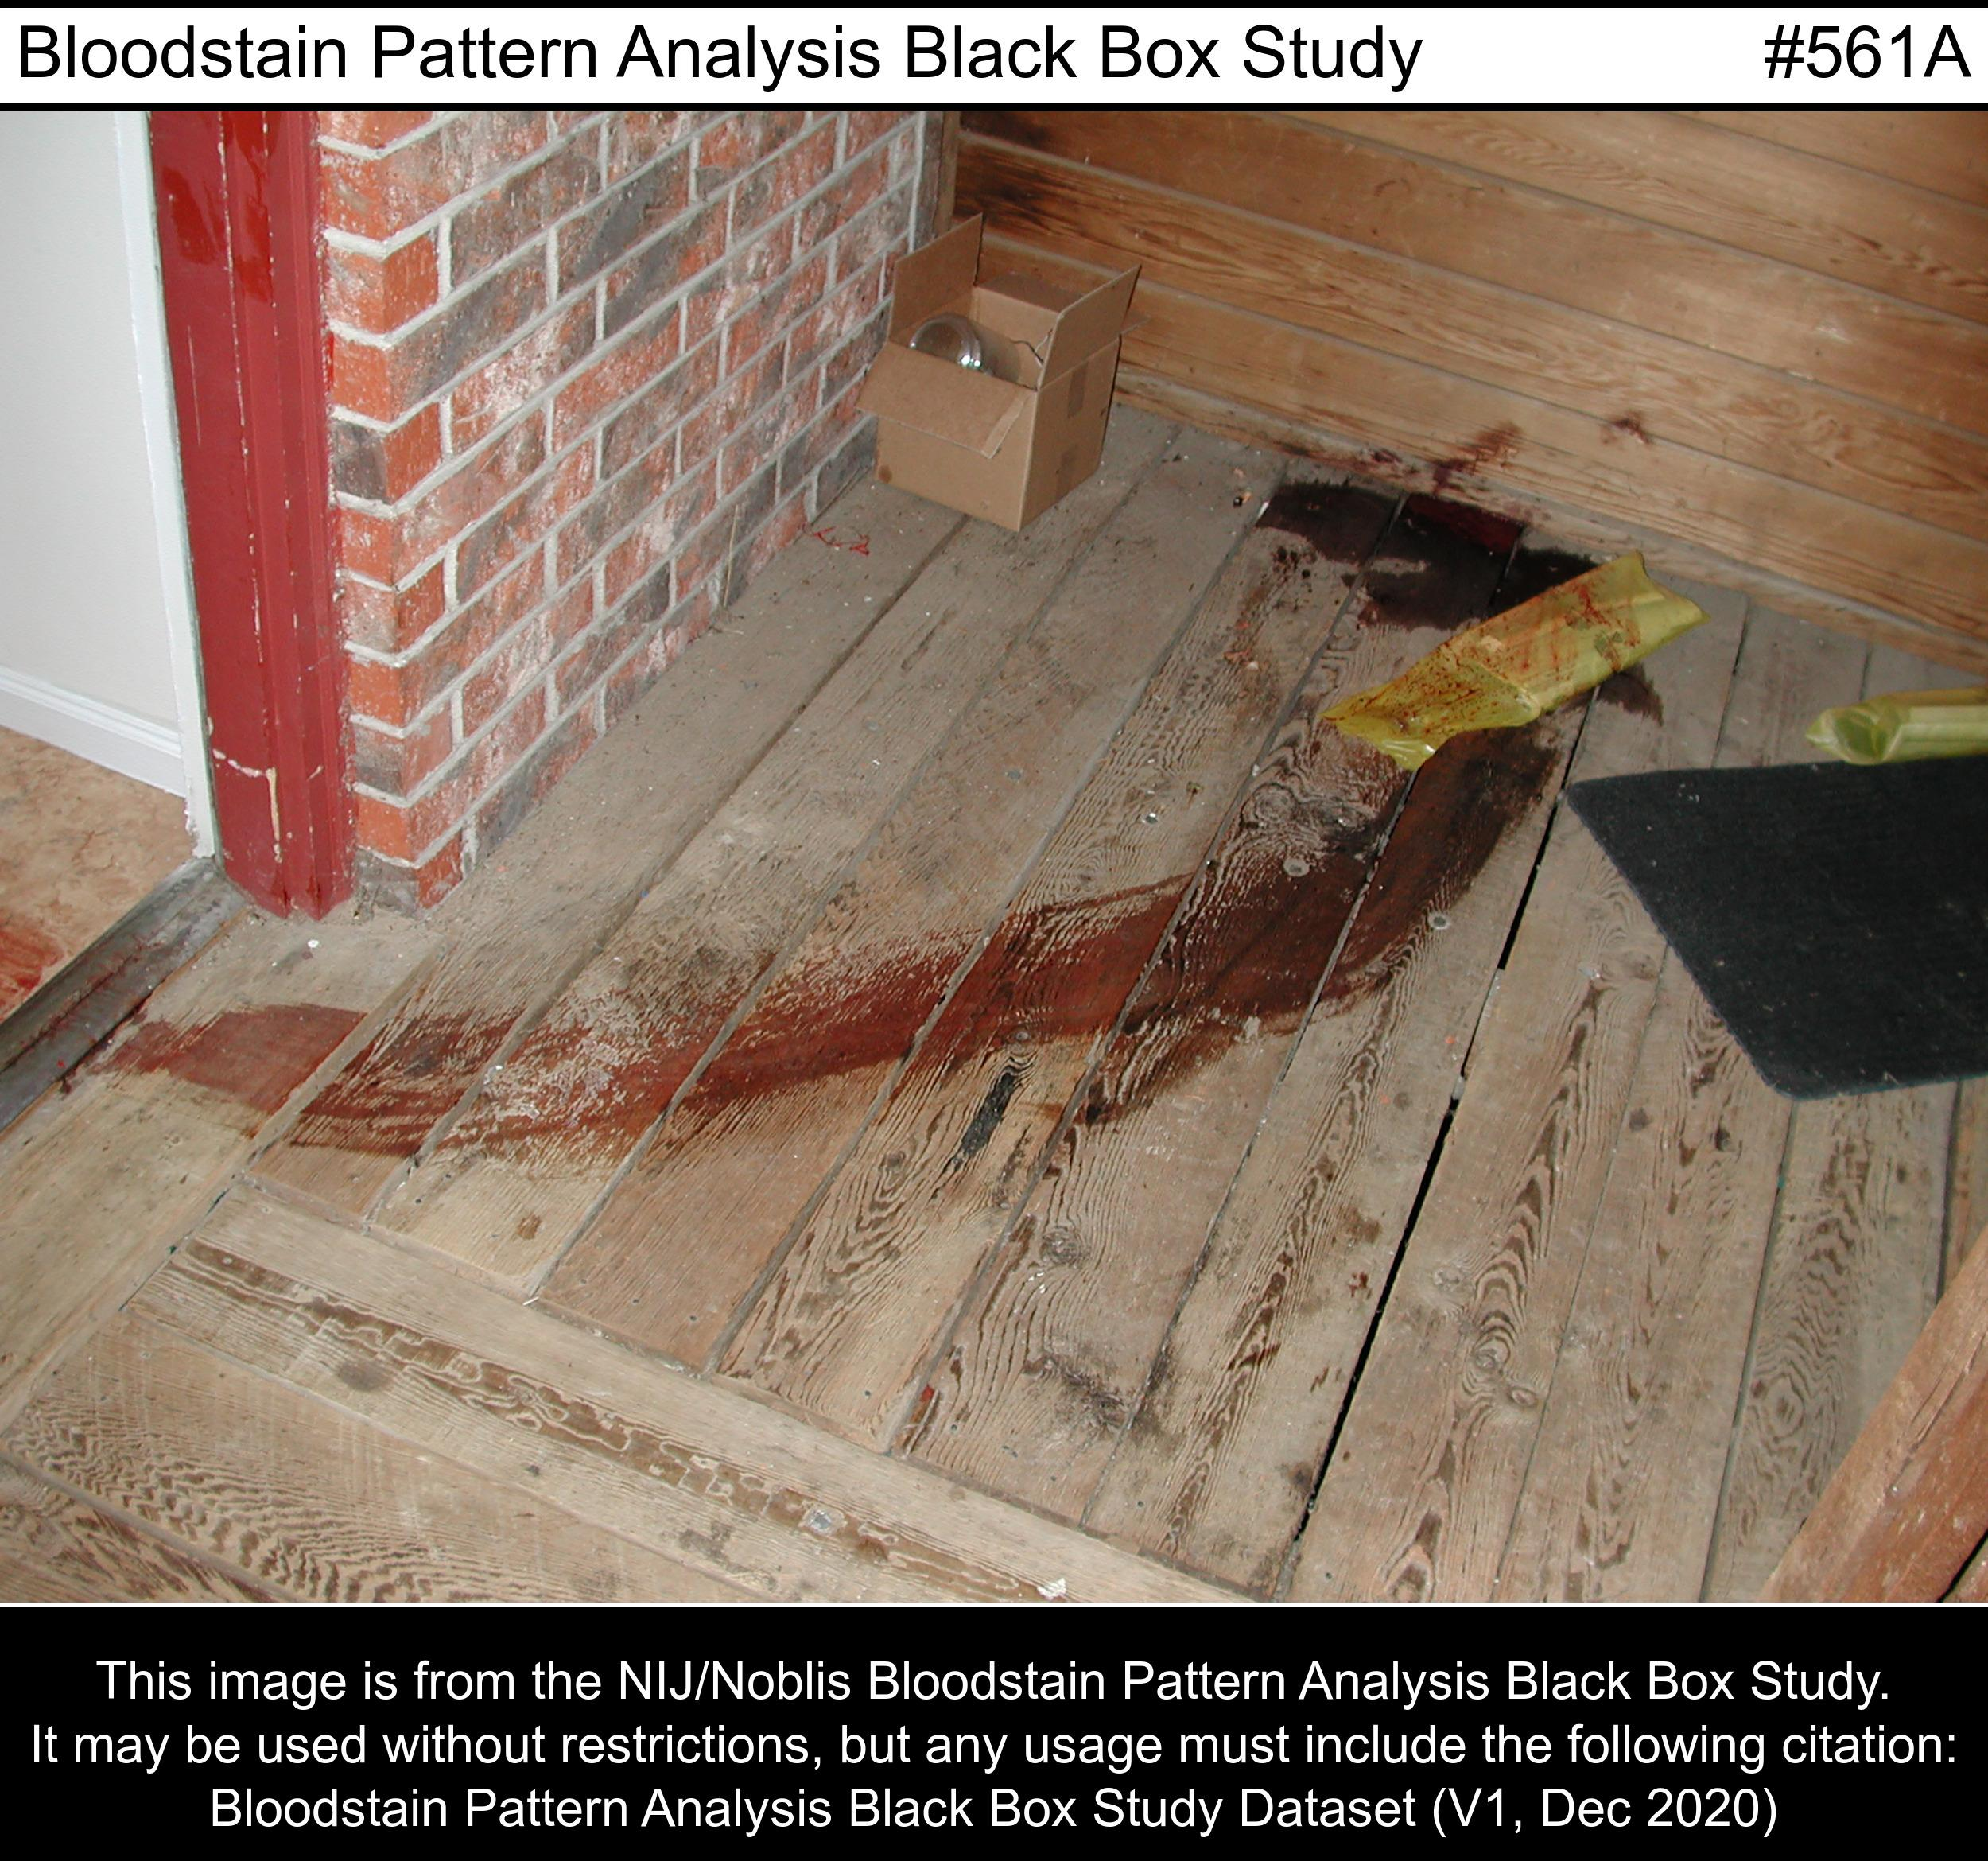Transfer: (217, 493, 1654, 1177)
